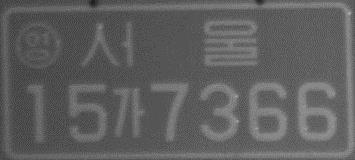1: (21, 80, 51, 146)
3: (198, 80, 241, 145)
5: (64, 80, 109, 144)
6: (294, 80, 338, 144), (246, 79, 289, 143)
7: (147, 80, 192, 145)
가: (111, 85, 146, 139)
서울_D: (75, 16, 260, 72)
영: (13, 19, 62, 73)
